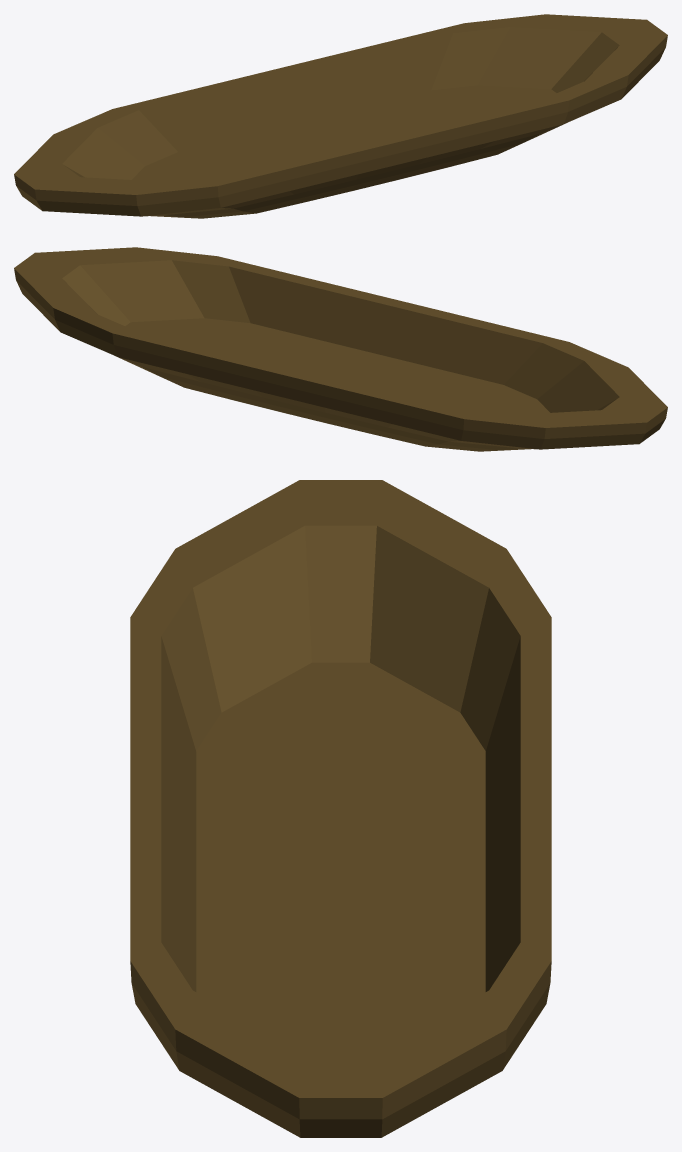
The model's file is bateau.fbx.
The picture shows the model from 3 angles, top to bottom: view 1: azimuth 30°, elevation 25°; view 2: azimuth 150°, elevation 25°; view 3: azimuth 270°, elevation 25°; orthographic projection. The views are drawn at different scales.
Parts seen in each view (by area): view 1: Plane; view 2: Plane; view 3: Plane.
Boxes of the visible parts, x1,y1,x2,y2 form: Plane: (14,14,667,218); Plane: (14,247,667,451); Plane: (130,480,551,1137).
Bounding box in the file's own units: 1375 × 111 × 396.
